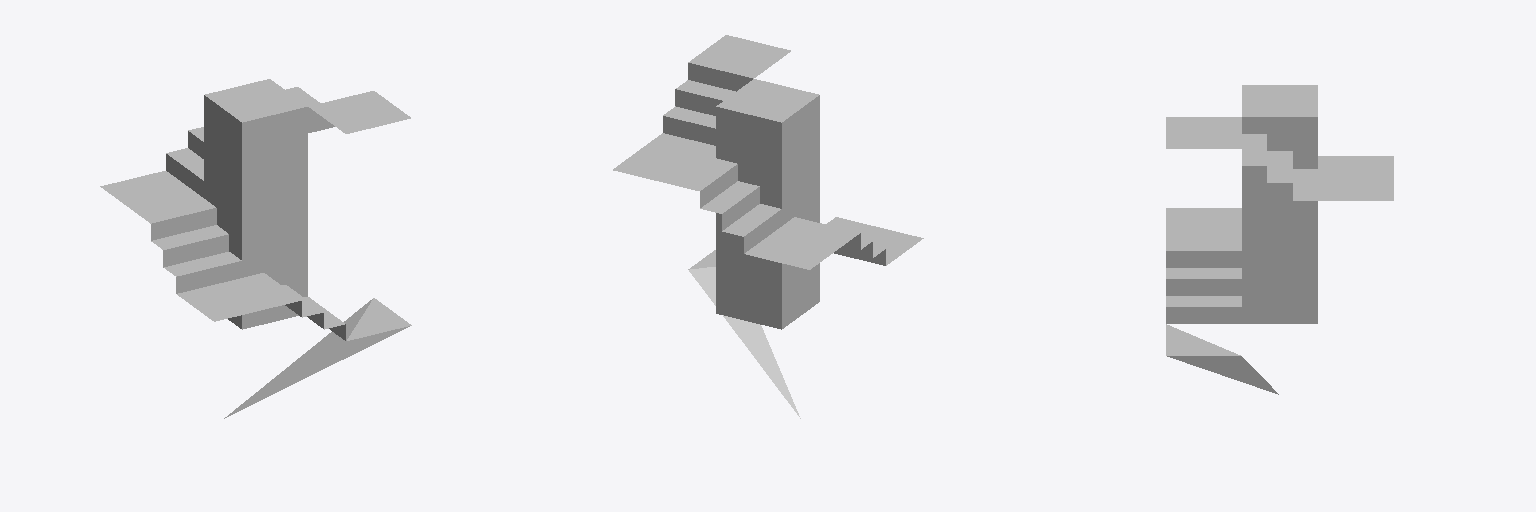
3 views of the same model, side by side, from view 1: azimuth 30°, elevation 25°; view 2: azimuth 150°, elevation 25°; view 3: azimuth 270°, elevation 25° (orthographic).
Visible parts, largest first — view 1: 立方体, 台阶侧1.1, 大平面3, 大平面2, 大平面5, 台阶竖2.2, 台阶竖2.3, 台阶竖2.1, 台阶平2.3, 台阶平1.3, 台阶平2.2, 台阶平2.1 (+2 smaller); view 2: 立方体, 大平面5, 大平面3, 大平面4, 台阶侧1.1, 大平面2, 台阶竖4.3, 台阶竖4.1, 台阶平3.3, 台阶平3.1, 台阶平3.2, 台阶平2.3 (+7 smaller); view 3: 立方体, 台阶侧1.1, 大平面5, 大平面4, 大平面2, 台阶竖1.3, 台阶竖1.2, 台阶竖1.1, 台阶平3.3, 台阶平1.3, 台阶平1.2, 台阶平1.1 (+3 smaller).
Boxes of the visible parts, x1=… form: 立方体: x1=204, y1=79, x2=307, y2=329; 台阶侧1.1: x1=224, y1=298, x2=411, y2=418; 大平面3: x1=100, y1=171, x2=202, y2=213; 大平面2: x1=177, y1=278, x2=279, y2=321; 大平面5: x1=308, y1=91, x2=410, y2=133; 台阶竖2.2: x1=163, y1=234, x2=228, y2=267; 台阶竖2.3: x1=151, y1=208, x2=216, y2=240; 台阶竖2.1: x1=176, y1=261, x2=241, y2=293; 台阶平2.3: x1=138, y1=198, x2=215, y2=223; 台阶平1.3: x1=243, y1=273, x2=301, y2=305; 台阶平2.2: x1=151, y1=225, x2=227, y2=249; 台阶平2.1: x1=164, y1=252, x2=241, y2=276; 立方体: x1=716, y1=79, x2=819, y2=329; 大平面5: x1=688, y1=35, x2=790, y2=78; 大平面3: x1=745, y1=226, x2=847, y2=269; 大平面4: x1=613, y1=142, x2=715, y2=185; 台阶侧1.1: x1=688, y1=250, x2=800, y2=418; 大平面2: x1=848, y1=222, x2=923, y2=265; 台阶竖4.3: x1=688, y1=63, x2=752, y2=91; 台阶竖4.1: x1=663, y1=116, x2=715, y2=145; 台阶平3.3: x1=679, y1=158, x2=736, y2=190; 台阶平3.1: x1=722, y1=204, x2=780, y2=236; 台阶平3.2: x1=700, y1=181, x2=759, y2=213; 台阶平2.3: x1=783, y1=217, x2=859, y2=241; 立方体: x1=1242, y1=85, x2=1317, y2=323; 台阶侧1.1: x1=1166, y1=324, x2=1278, y2=394; 大平面5: x1=1166, y1=117, x2=1241, y2=148; 大平面4: x1=1318, y1=169, x2=1393, y2=200; 大平面2: x1=1166, y1=208, x2=1241, y2=239; 台阶竖1.3: x1=1166, y1=251, x2=1241, y2=267; 台阶竖1.2: x1=1166, y1=279, x2=1241, y2=295; 台阶竖1.1: x1=1166, y1=307, x2=1241, y2=323; 台阶平3.3: x1=1318, y1=158, x2=1393, y2=168; 台阶平1.3: x1=1166, y1=240, x2=1241, y2=250; 台阶平1.2: x1=1166, y1=268, x2=1241, y2=278; 台阶平1.1: x1=1166, y1=296, x2=1241, y2=306.
Bounding box in the file's own units: 300 × 450 × 300.